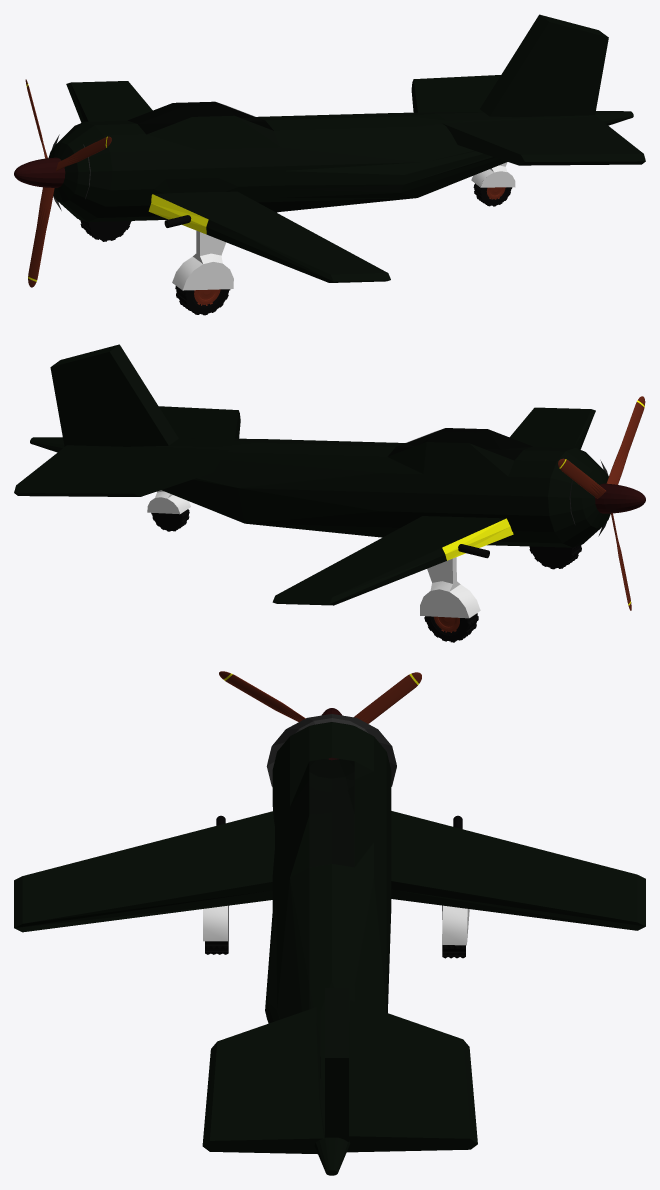
Rendered from A6M_NearlyDOne.fbx.
3 views of the same model, one above another, from view 1: azimuth 30°, elevation 25°; view 2: azimuth 150°, elevation 25°; view 3: azimuth 270°, elevation 25° (orthographic). The views are drawn at different scales.
Parts seen in each view (by area): view 1: Cylinder_2_2, Cube_3, Cylinder, Cylinder_2_3, Wheel_2, Wheel, Cylinder_1, Wheel_3, Cylinder_3; view 2: Cylinder_2_2, Cube_3, Cylinder_2, Wheel, Cylinder_3, Wheel_2, Cylinder_1, Cylinder_1_2, Wheel_3; view 3: Cylinder_2_2, Cube_3, Cylinder_1_2, Cylinder_2, Cylinder_3, Cylinder.
Boxes of the visible parts, bbox=[...] form: Cylinder_2_2: bbox=[14, 75, 645, 282]; Cube_3: bbox=[480, 14, 608, 117]; Cylinder: bbox=[172, 230, 233, 290]; Cylinder_2_3: bbox=[28, 187, 54, 287]; Wheel_2: bbox=[175, 286, 230, 315]; Wheel: bbox=[79, 219, 131, 241]; Cylinder_1: bbox=[471, 162, 515, 187]; Wheel_3: bbox=[473, 183, 512, 206]; Cylinder_3: bbox=[56, 136, 111, 171]; Cylinder_2_2: bbox=[14, 406, 645, 605]; Cube_3: bbox=[50, 344, 178, 446]; Cylinder_2: bbox=[420, 557, 480, 618]; Wheel: bbox=[424, 613, 478, 642]; Cylinder_3: bbox=[606, 396, 645, 484]; Wheel_2: bbox=[529, 545, 581, 569]; Cylinder_1: bbox=[147, 490, 190, 514]; Cylinder_1_2: bbox=[558, 458, 605, 498]; Wheel_3: bbox=[151, 509, 189, 531]; Cylinder_2_2: bbox=[14, 708, 645, 1175]; Cube_3: bbox=[325, 988, 348, 1141]; Cylinder_1_2: bbox=[354, 672, 421, 723]; Cylinder_2: bbox=[442, 905, 469, 945]; Cylinder_3: bbox=[219, 671, 305, 721]; Cylinder: bbox=[203, 905, 227, 941].
Bounding box in the file's own units: 709 × 225 × 533.
